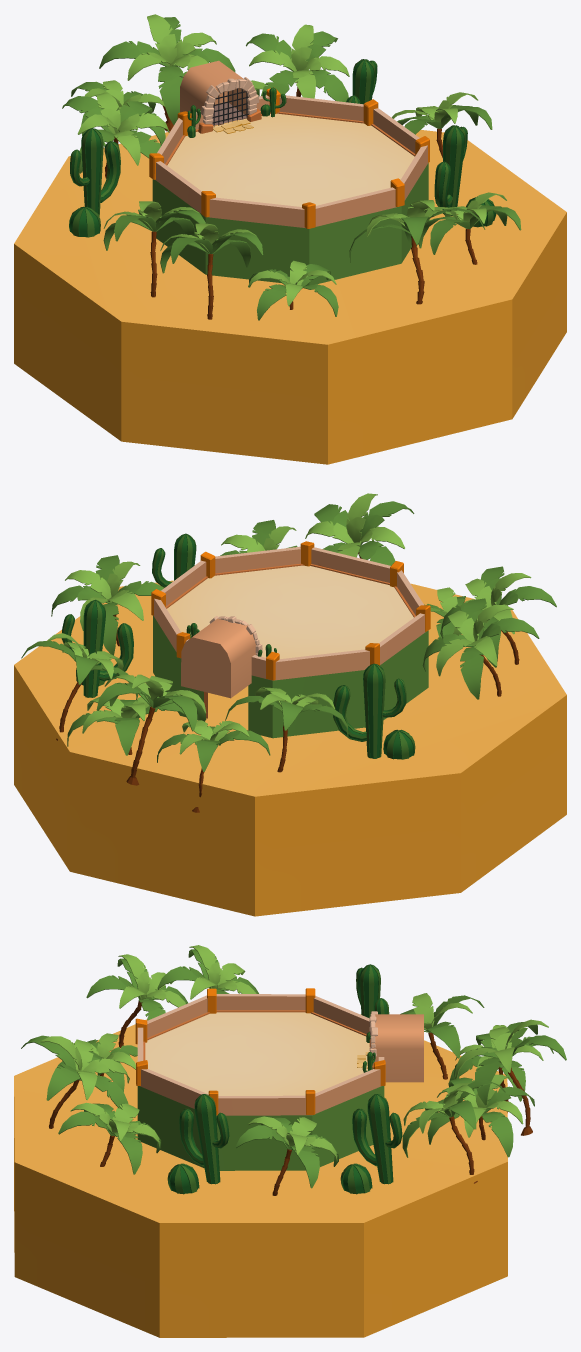
3 views of the same model, one above another, from view 1: azimuth 30°, elevation 25°; view 2: azimuth 150°, elevation 25°; view 3: azimuth 270°, elevation 25° (orthographic). The views are drawn at different scales.
Visible parts, largest first — view 1: BG_03; view 2: BG_03; view 3: BG_03.
Part boxes in pixels (box(x1,y1,x2,y2)): BG_03: box(14, 14, 566, 464); BG_03: box(14, 493, 566, 916); BG_03: box(14, 945, 566, 1337).
Bounding box in the file's own units: 16099 × 7772 × 18016.
